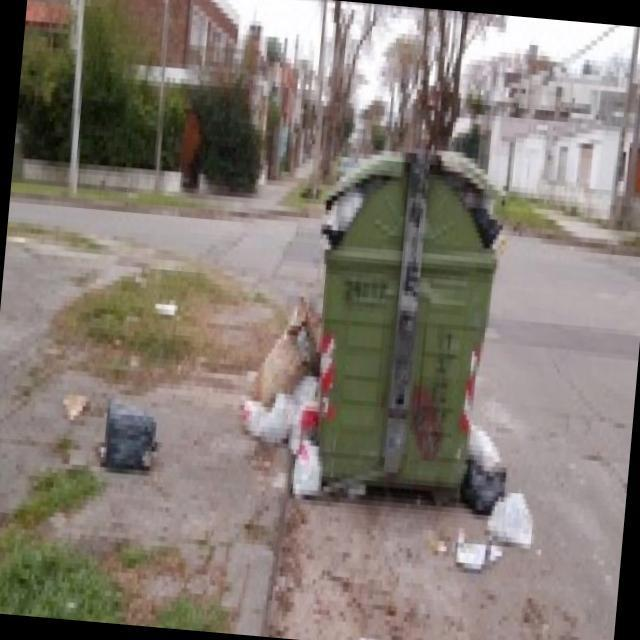garbage: (232, 286, 324, 489), (444, 404, 542, 583), (85, 382, 162, 477)
